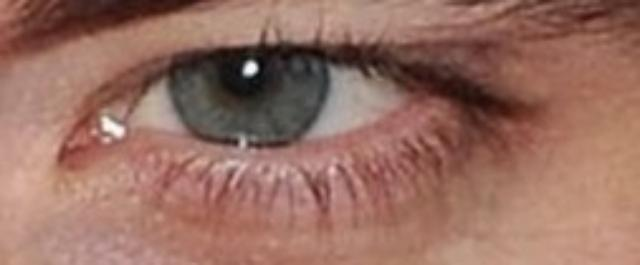eye: (166, 38, 334, 152)
